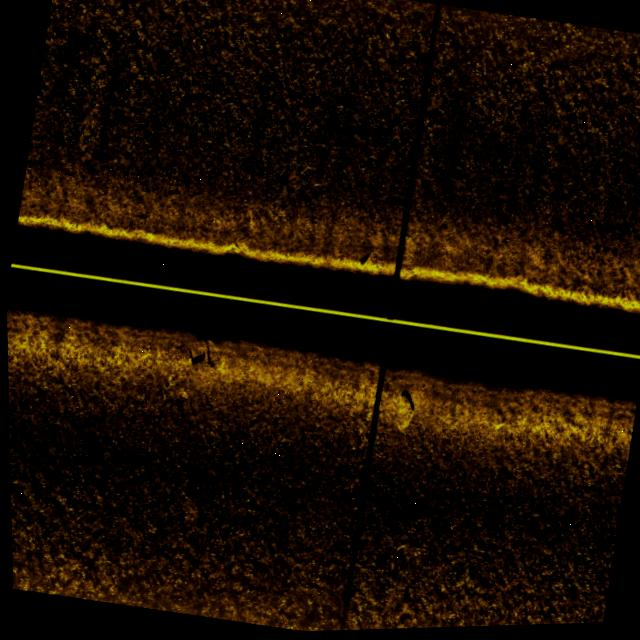mine: (358, 251, 373, 274)
other: (386, 388, 424, 441)
